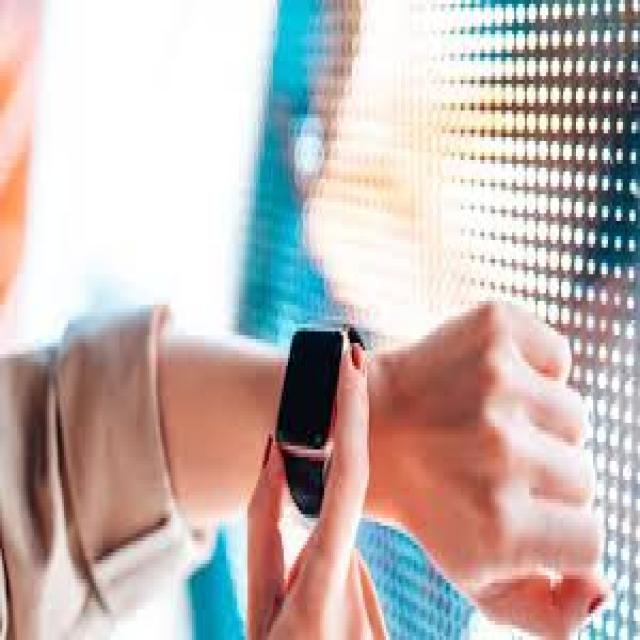objects: (273, 316, 370, 521)
